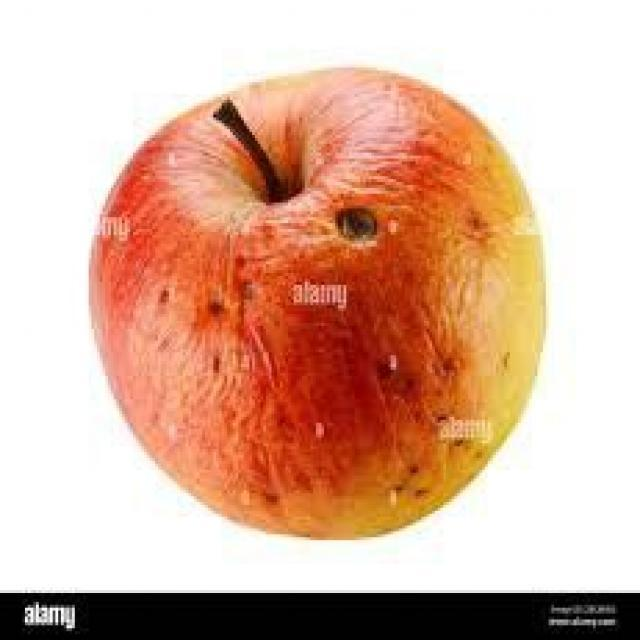Rotten: (90, 76, 533, 532)
